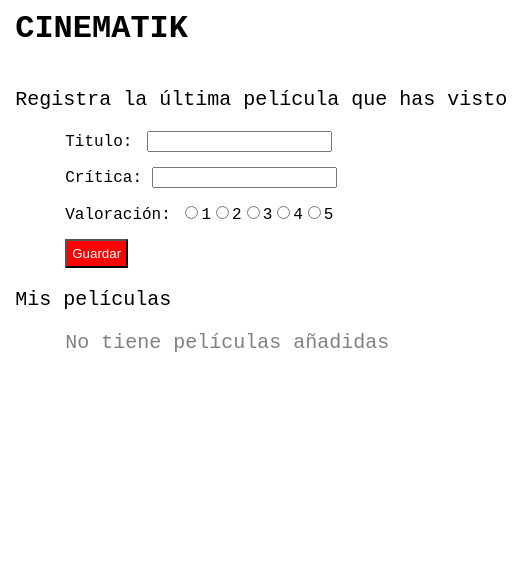
Scenario: Elimina un comentario
Type "Star Wars" into the field labelled "Titulo:" at coordinates (240, 142), box x1=147 y1=131 x2=332 y2=152
Click the button "Guardar" at coordinates (97, 254), box x1=65 y1=239 x2=128 y2=268
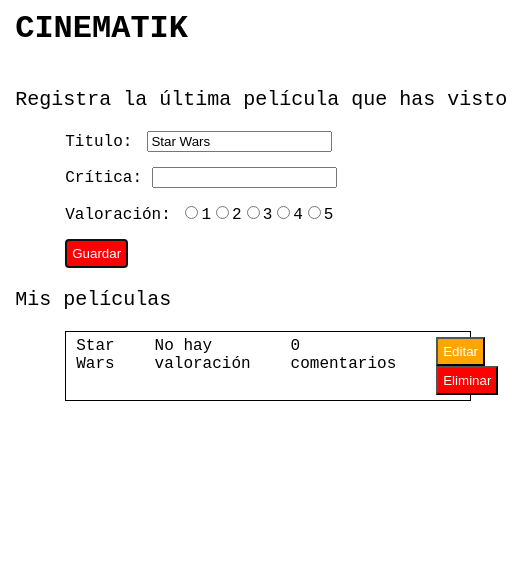
Click the button "Editar" at coordinates (461, 352), box x1=436 y1=337 x2=485 y2=366
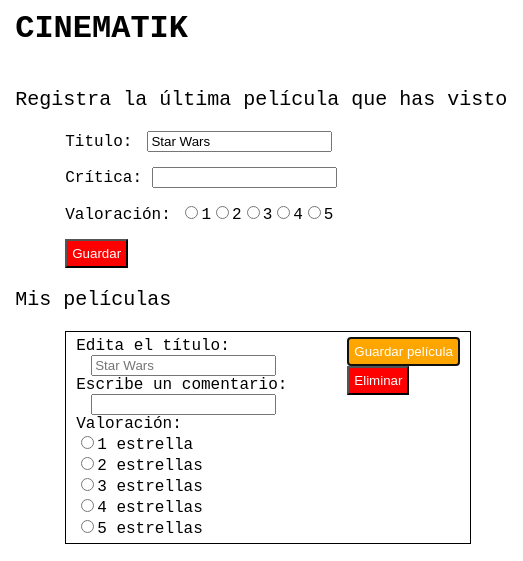
Type "Película muy buena" into the field labelled "Escribe un comentario:" at coordinates (184, 405), box x1=91 y1=394 x2=276 y2=415
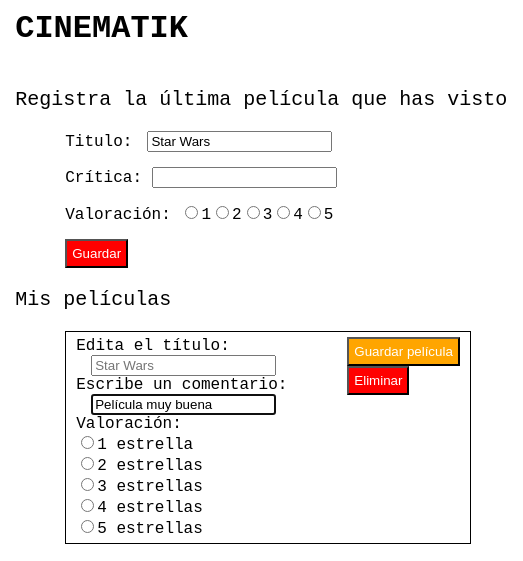
Click the button "Guardar película" at coordinates (404, 352), box x1=347 y1=337 x2=460 y2=366
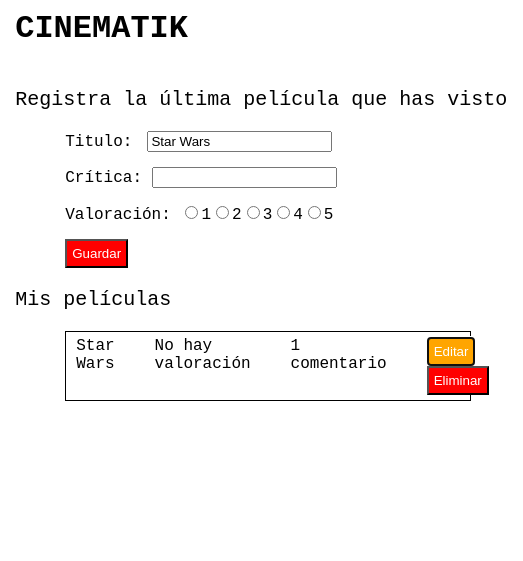
Click the text "Star Wars" at coordinates (95, 366), box x1=76 y1=337 x2=115 y2=395
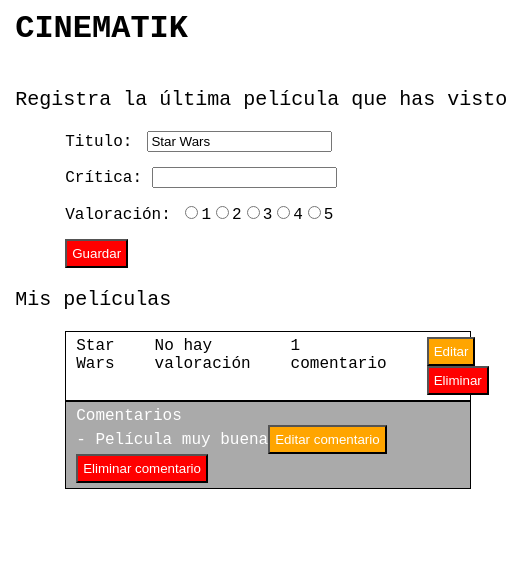
Click the button "Eliminar comentario" at coordinates (142, 469), box x1=76 y1=454 x2=208 y2=483
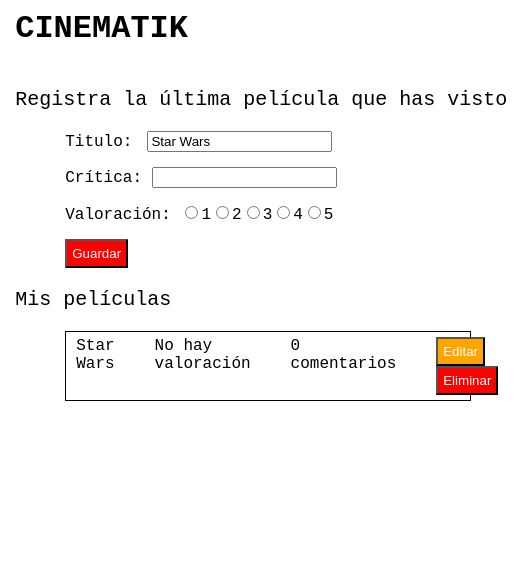
Expected: the text "Película muy buena" is gone
